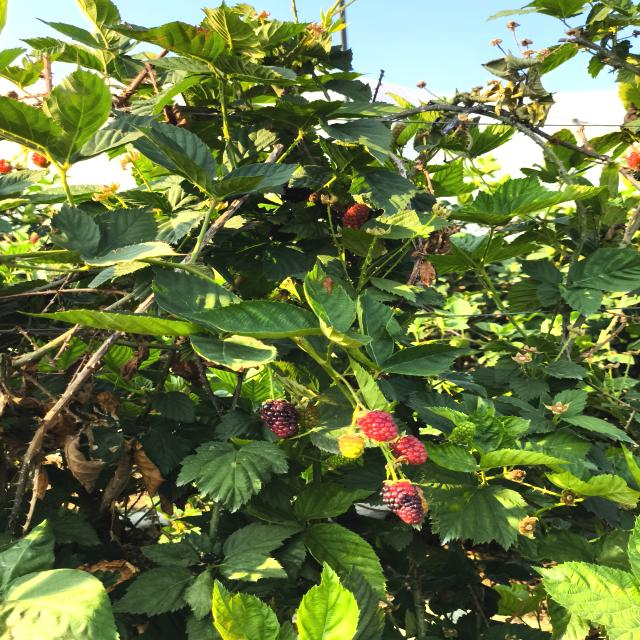marron: (381, 481, 424, 524), (259, 400, 299, 438)
naranja: (357, 410, 398, 442), (391, 435, 428, 465), (342, 204, 370, 229)
verde: (338, 434, 364, 459), (449, 421, 476, 444), (298, 406, 320, 428), (326, 455, 355, 470), (392, 123, 406, 142)
